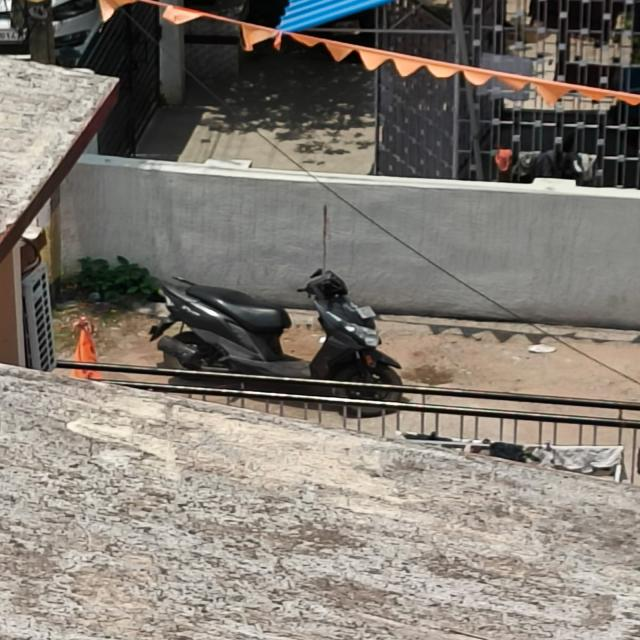bike: (134, 254, 427, 409)
